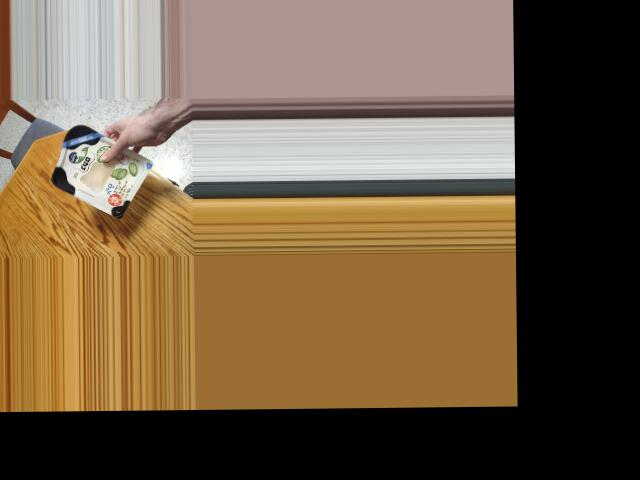cheese: (52, 126, 141, 213)
